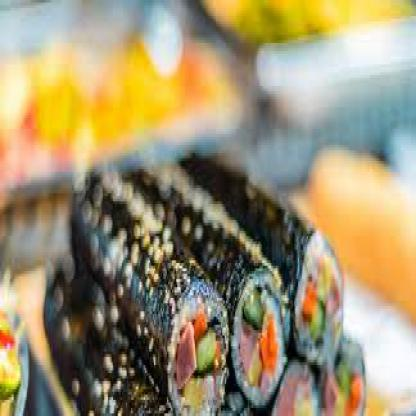rice: (73, 161, 356, 413)
